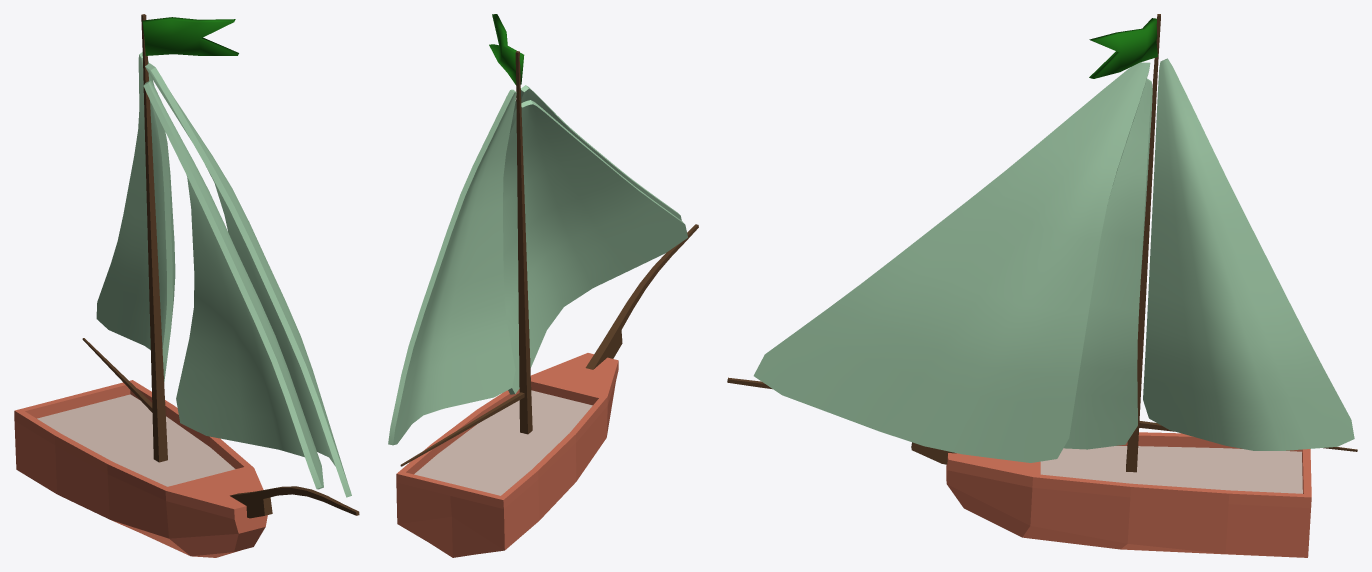
Rendered from boat.fbx.
3 renders of one model, left to right at view 1: azimuth 30°, elevation 25°; view 2: azimuth 150°, elevation 25°; view 3: azimuth 270°, elevation 25°, orthographic. The views are drawn at different scales.
Parts seen in each view (by area): view 1: Segel, Rumpf, Flagge; view 2: Segel, Rumpf, Flagge; view 3: Segel, Rumpf, Flagge.
Boxes of the visible parts, left/top/right/bottom form: Segel: left=96, top=52, right=351, bottom=497; Rumpf: left=14, top=14, right=359, bottom=557; Flagge: left=142, top=17, right=238, bottom=55; Segel: left=388, top=85, right=687, bottom=445; Rumpf: left=396, top=51, right=698, bottom=557; Flagge: left=489, top=14, right=524, bottom=85; Segel: left=753, top=58, right=1354, bottom=462; Rumpf: left=727, top=14, right=1357, bottom=557; Flagge: left=1089, top=18, right=1157, bottom=78.
Size of the model in its own units: 156 by 570 by 601.
